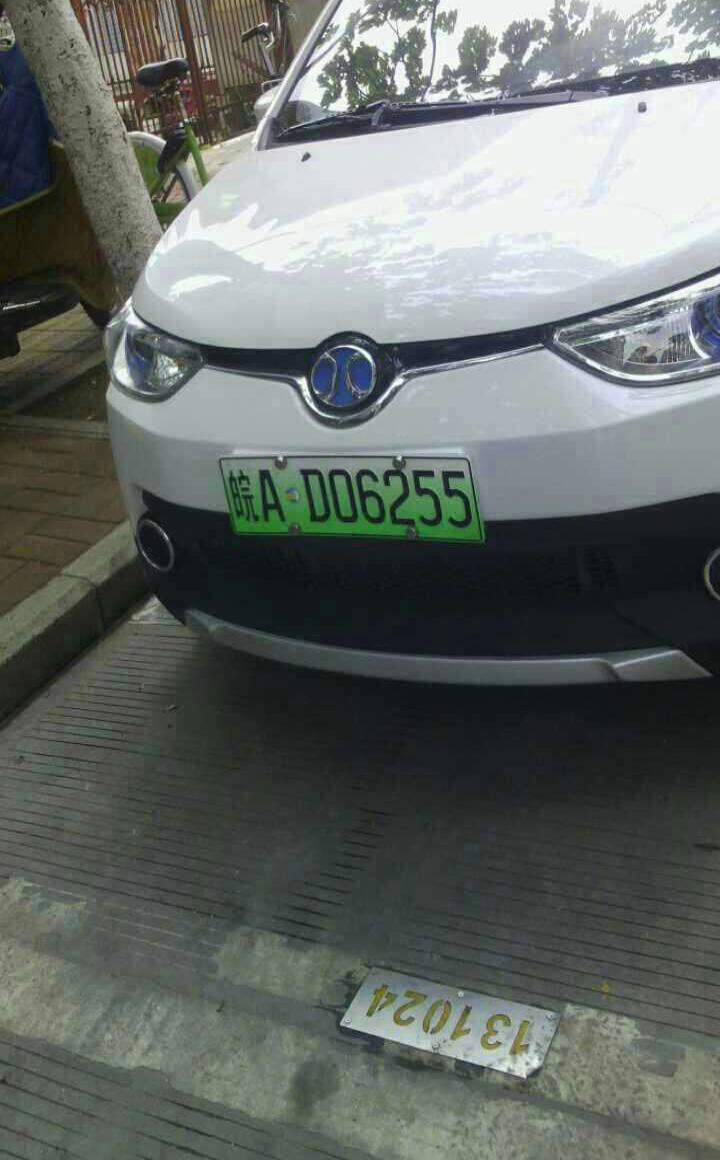car: (220, 452, 486, 548)
